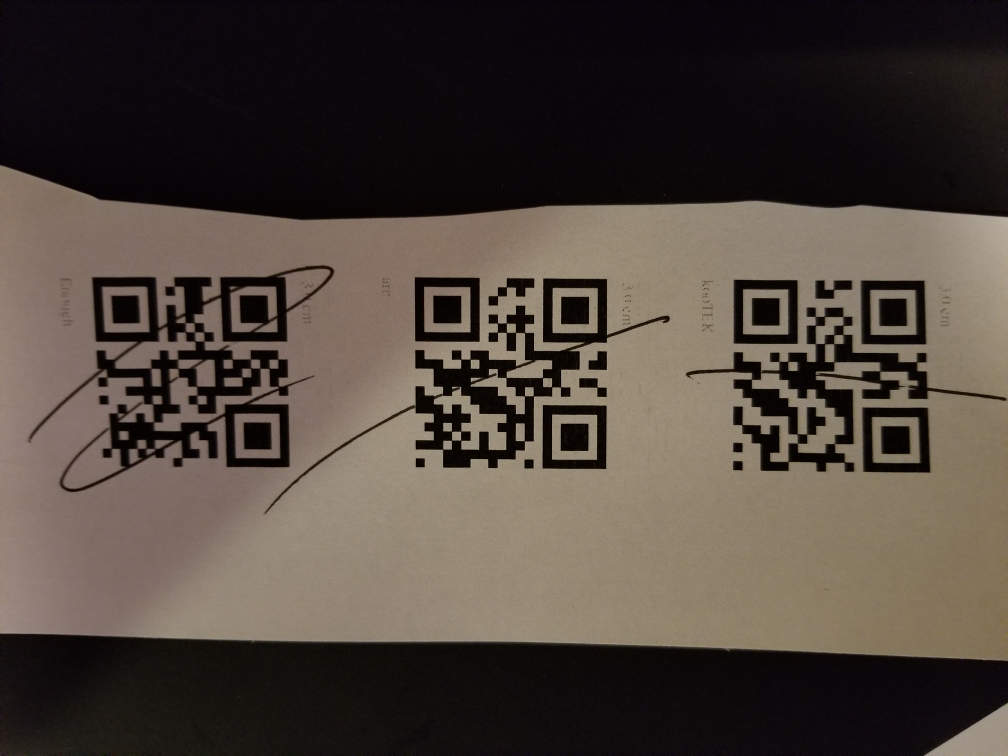QR_CODE: (69, 249, 307, 492), (391, 253, 628, 488), (716, 265, 947, 488)
